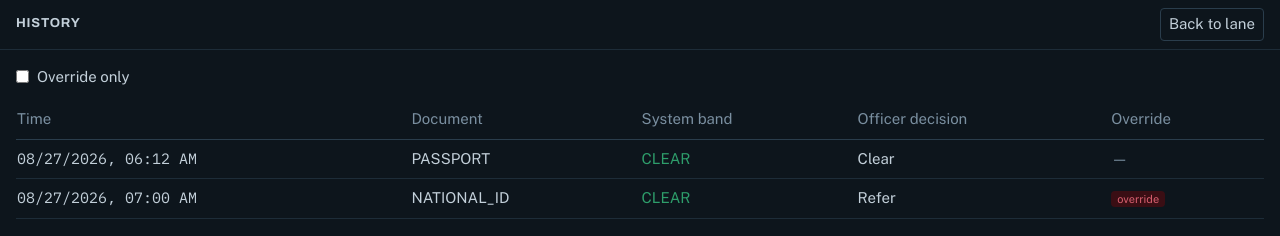
it: HistoryScreen › the override-only filter hides non-override rows
The image size is (1280, 236).
Expected: the text "PASSPORT" is shown, x1=410 y1=139 x2=640 y2=178
Expected: the text "NATIONAL_ID" is shown, x1=410 y1=178 x2=640 y2=218
Click the checkbox labelled "Override only" at (22, 77), box x1=16 y1=70 x2=29 y2=83
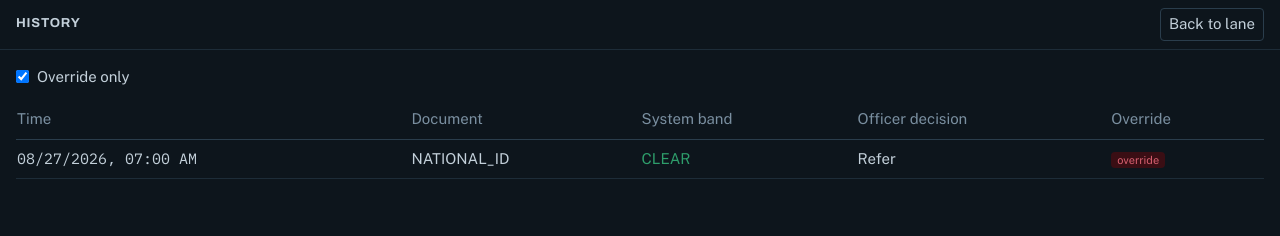
Expected: the text "NATIONAL_ID" is shown, x1=410 y1=139 x2=640 y2=178
Expected: the text "PASSPORT" is gone
